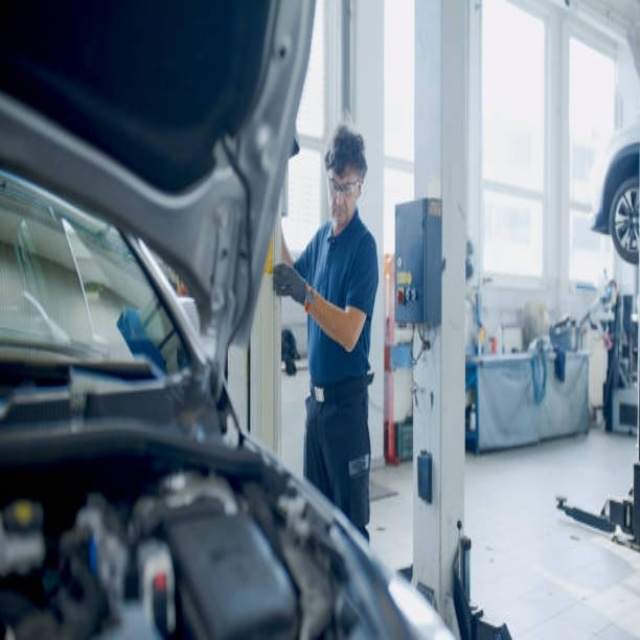Gafas: (327, 174, 362, 195)
Guantes: (272, 262, 308, 305)
Sin_mascara: (329, 199, 346, 227)
